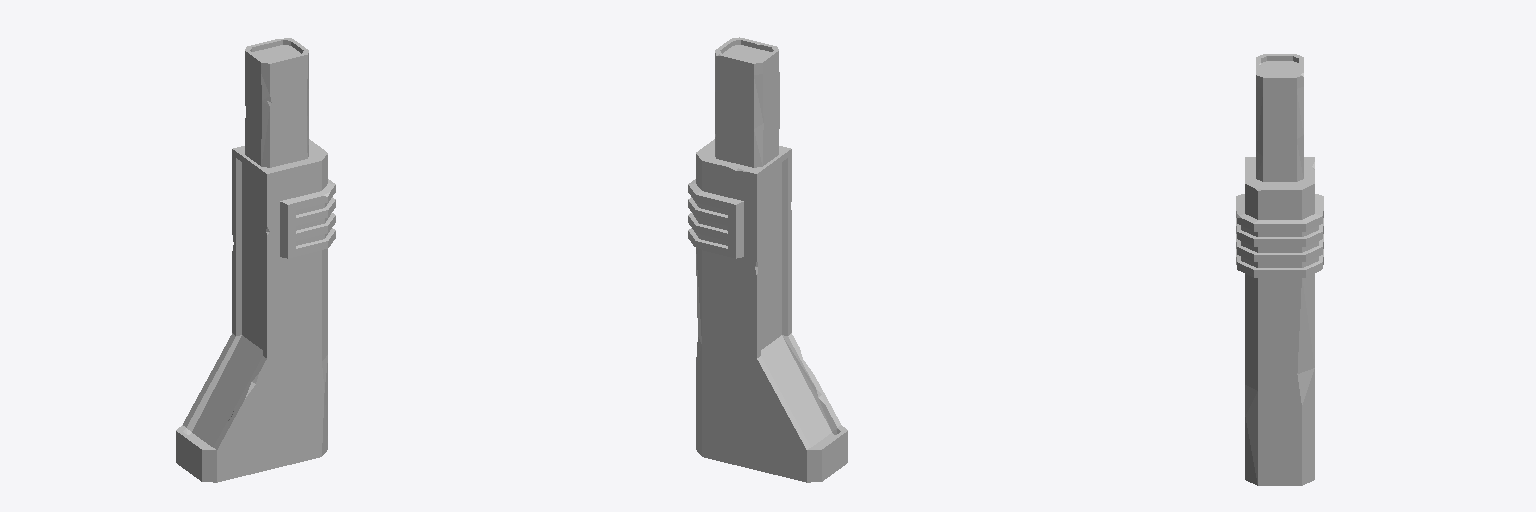
File: SciFi_Building_Large01.obj
3 renders of one model, left to right at view 1: azimuth 30°, elevation 25°; view 2: azimuth 150°, elevation 25°; view 3: azimuth 270°, elevation 25°, orthographic.
Parts seen in each view (by area): view 1: SM_Bld_Large_01; view 2: SM_Bld_Large_01; view 3: SM_Bld_Large_01.
Part boxes in pixels (left/top/right/bottom): SM_Bld_Large_01: left=176, top=38, right=335, bottom=482; SM_Bld_Large_01: left=688, top=37, right=847, bottom=482; SM_Bld_Large_01: left=1236, top=54, right=1323, bottom=485.
Bounding box in the file's own units: 0.35 × 1 × 0.2.